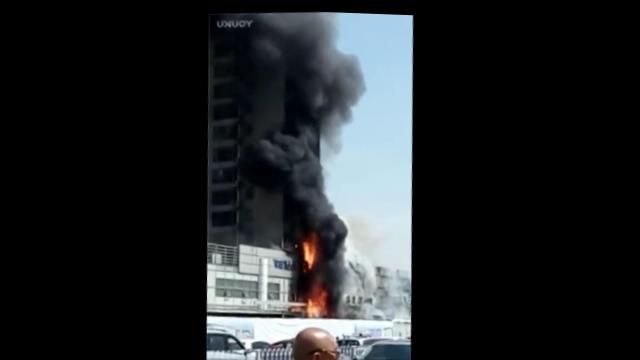fire: (306, 234, 320, 263), (310, 293, 328, 313)
